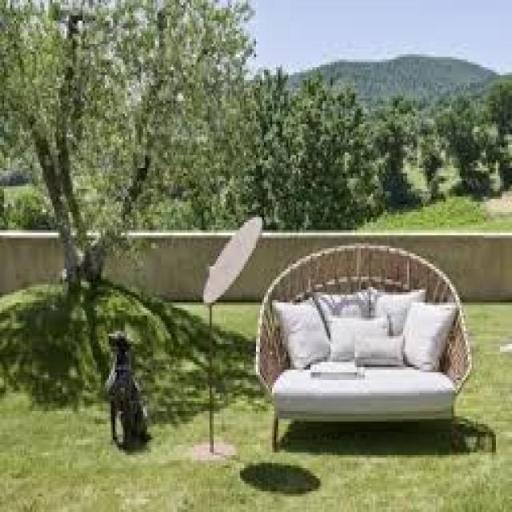sofa: (258, 228, 502, 482)
